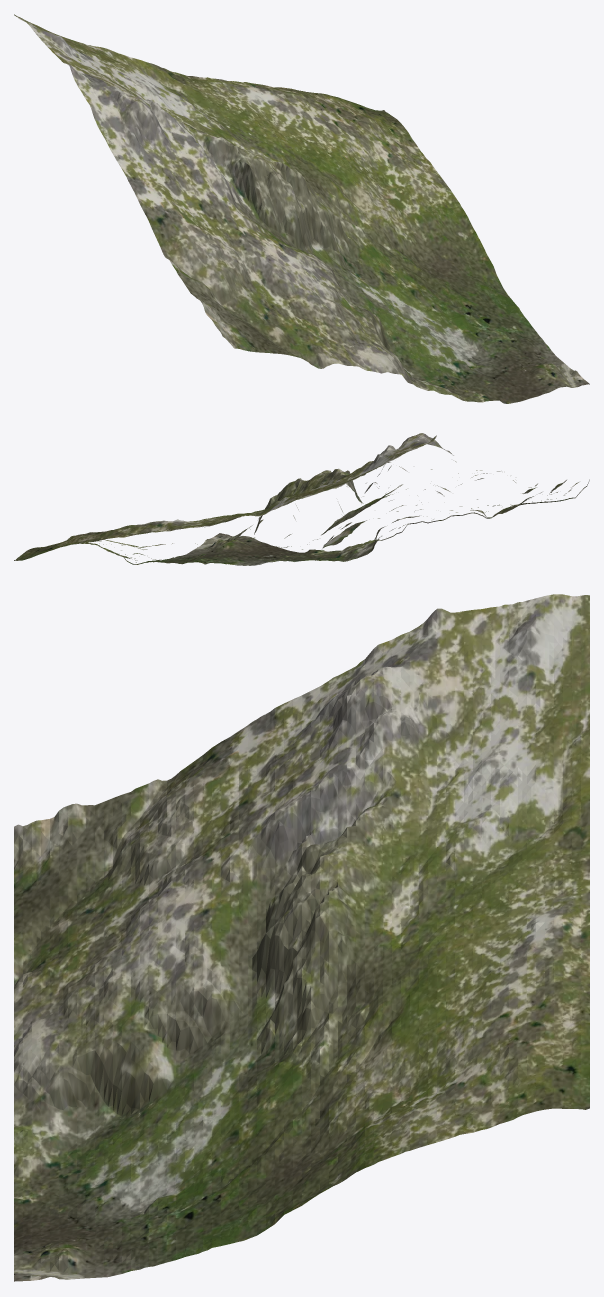
The picture shows the model from 3 angles, top to bottom: view 1: azimuth 30°, elevation 25°; view 2: azimuth 150°, elevation 25°; view 3: azimuth 270°, elevation 25°; orthographic projection. The views are drawn at different scales.
Size of the model in its own units: 500 by 402 by 481.
Materials: 1 (1 with a texture image).
